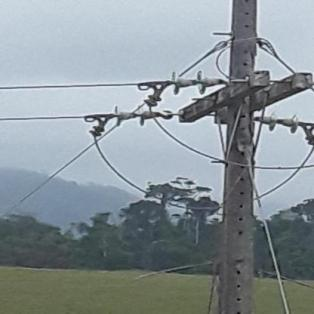Poste: (180, 0, 288, 314)
